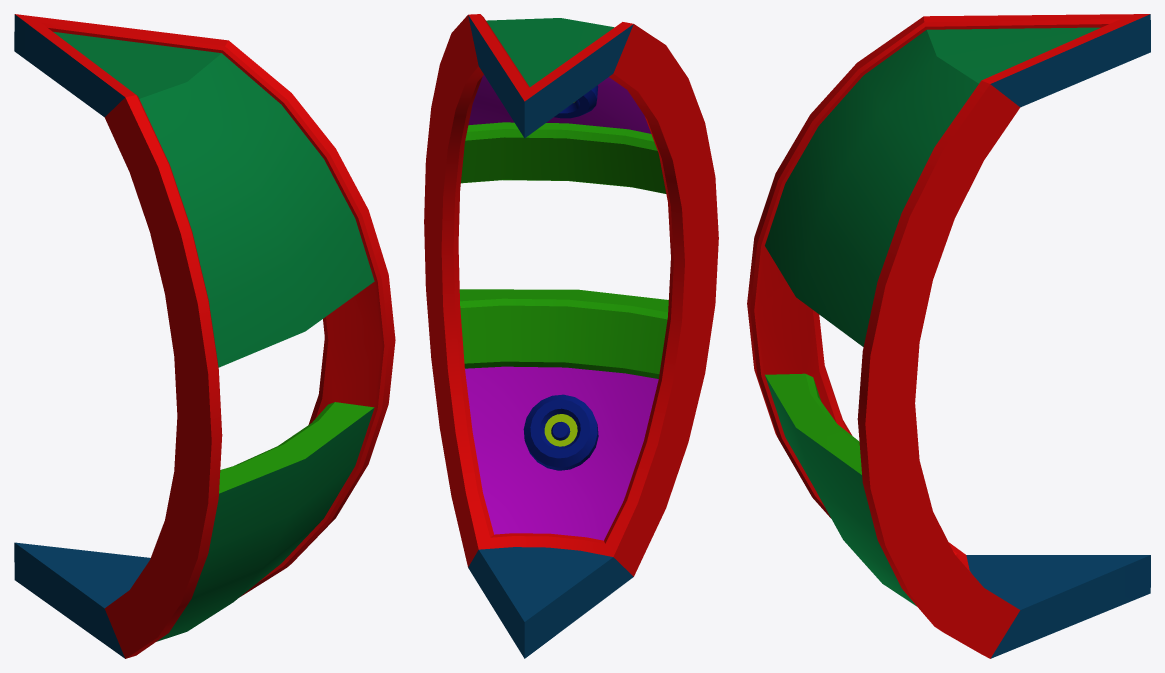
Rendered from OBJ_Salle_IA_ouverture.fbx.
The picture shows the model from 3 angles, left to right: view 1: azimuth 30°, elevation 25°; view 2: azimuth 150°, elevation 25°; view 3: azimuth 270°, elevation 25°; orthographic projection. The views are drawn at different scales.
Visible parts, largest first — view 1: OBJ_Salle_Ia_Ouverture; view 2: OBJ_Salle_Ia_Ouverture; view 3: OBJ_Salle_Ia_Ouverture.
Boxes of the visible parts, <box> form: OBJ_Salle_Ia_Ouverture: <box>14,14,395,658</box>; OBJ_Salle_Ia_Ouverture: <box>424,14,718,658</box>; OBJ_Salle_Ia_Ouverture: <box>747,14,1150,658</box>.
Bounding box in the file's own units: 11.02 × 24.67 × 15.58.
